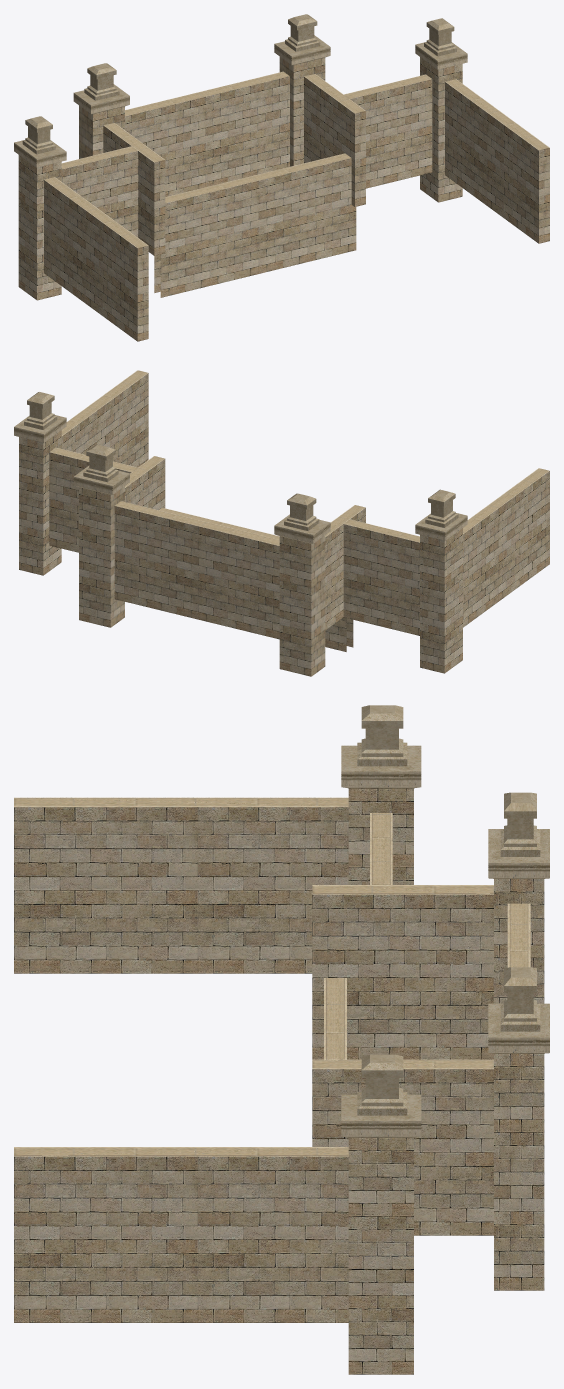
Rendered from poi_nboo_corral_half_32x32_s03_l0.fbx.
3 renders of one model, top to bottom at view 1: azimuth 30°, elevation 25°; view 2: azimuth 150°, elevation 25°; view 3: azimuth 270°, elevation 25°, orthographic. The views are drawn at different scales.
Parts seen in each view (by area): view 1: mesh_node; view 2: mesh_node; view 3: mesh_node.
Part boxes in pixels (left/top/right/bottom): mesh_node: left=14, top=14, right=549, bottom=341; mesh_node: left=14, top=370, right=549, bottom=676; mesh_node: left=14, top=705, right=549, bottom=1374.
Bounding box in the file's own units: 19.35 × 8.22 × 11.67.
